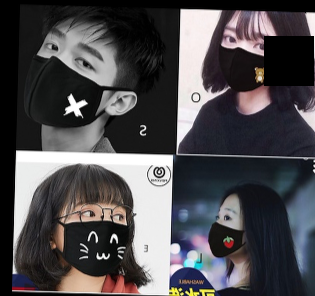with_mask: (28, 25, 117, 127), (52, 198, 132, 278), (217, 24, 285, 94), (206, 204, 245, 260)
